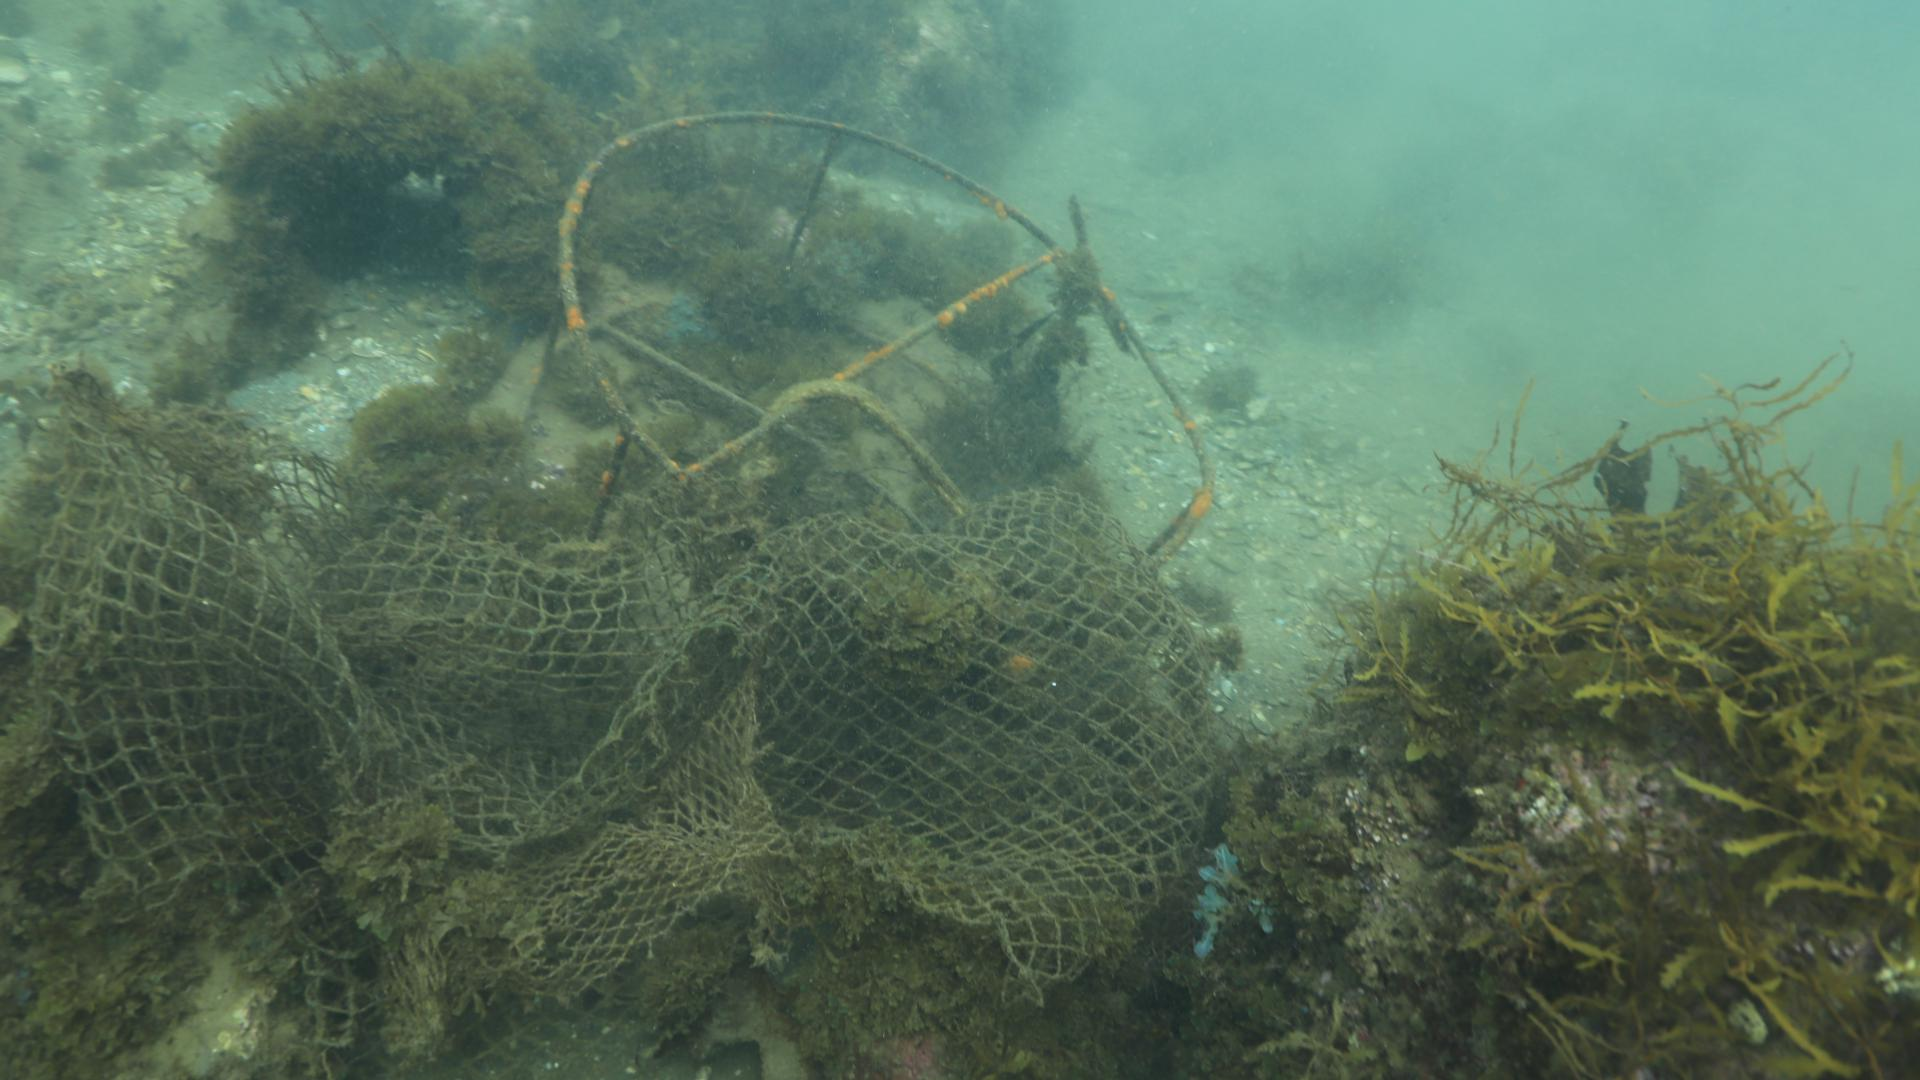bundle of ropes: (736, 377, 972, 516)
fish net: (0, 367, 1213, 1080)
